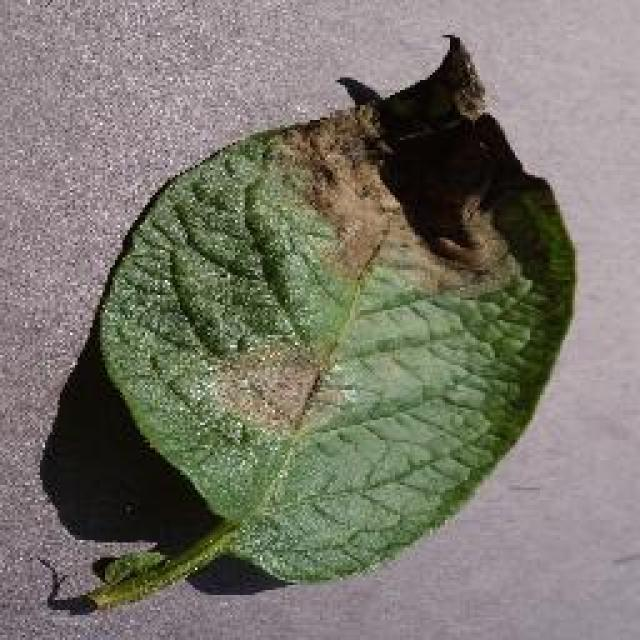Potato___Late_blight: (63, 20, 595, 630)
